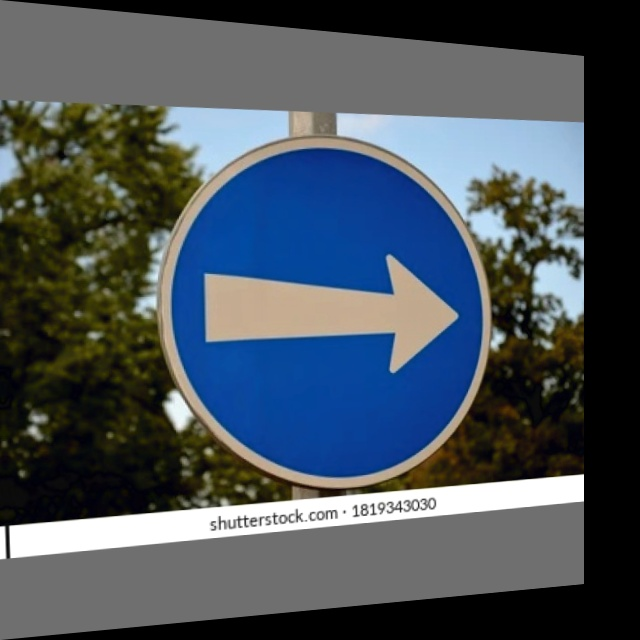Compulsory_Turn_Right: (160, 119, 486, 494)
